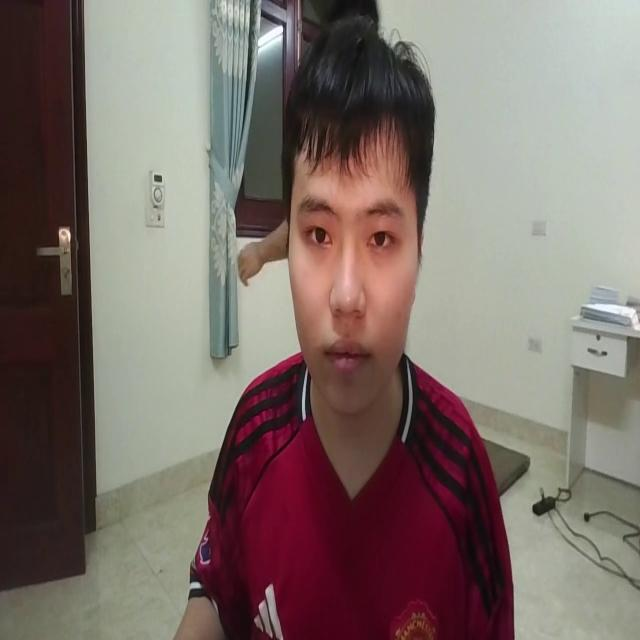student: (174, 13, 516, 640)
